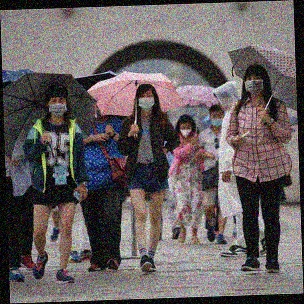with_mask: (47, 96, 68, 117), (244, 74, 264, 96), (137, 90, 156, 113), (179, 124, 193, 139), (210, 112, 224, 127)
